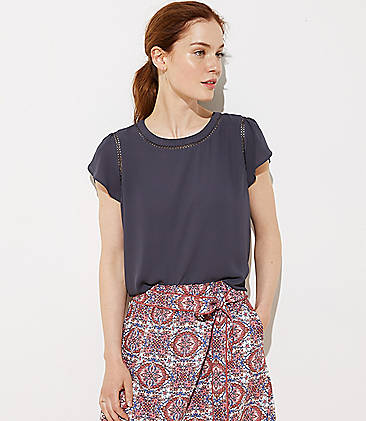C_skirt: (101, 279, 276, 420)
S_short blouse: (88, 112, 276, 299)
